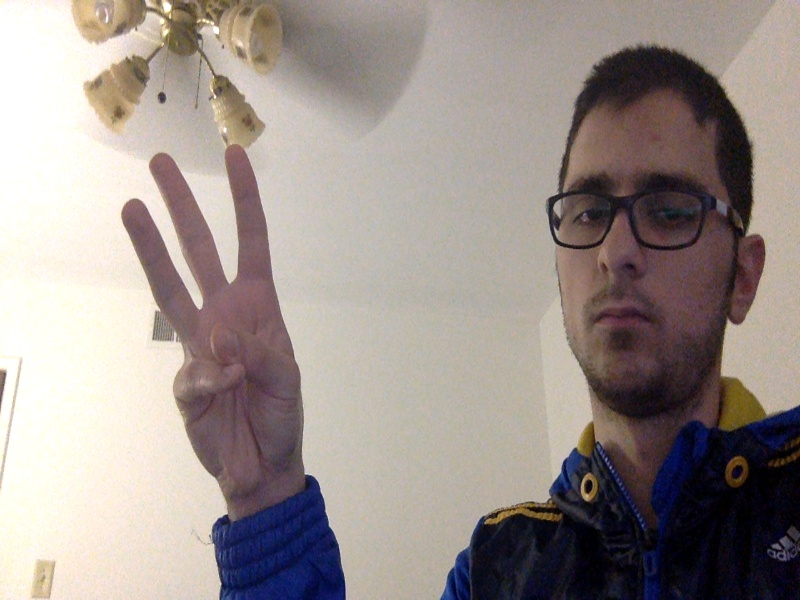3-hand: (121, 150, 307, 491)
